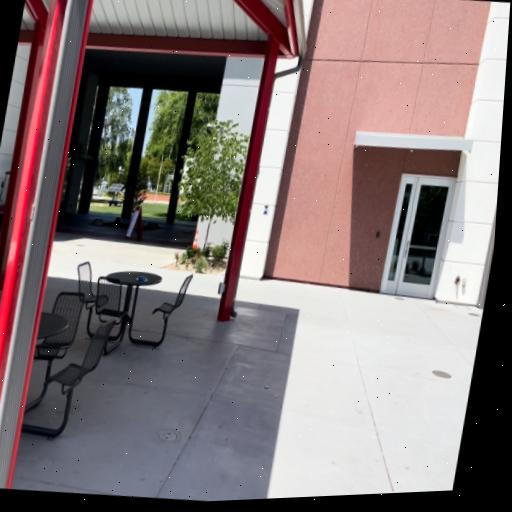target9: (263, 205, 270, 215)
